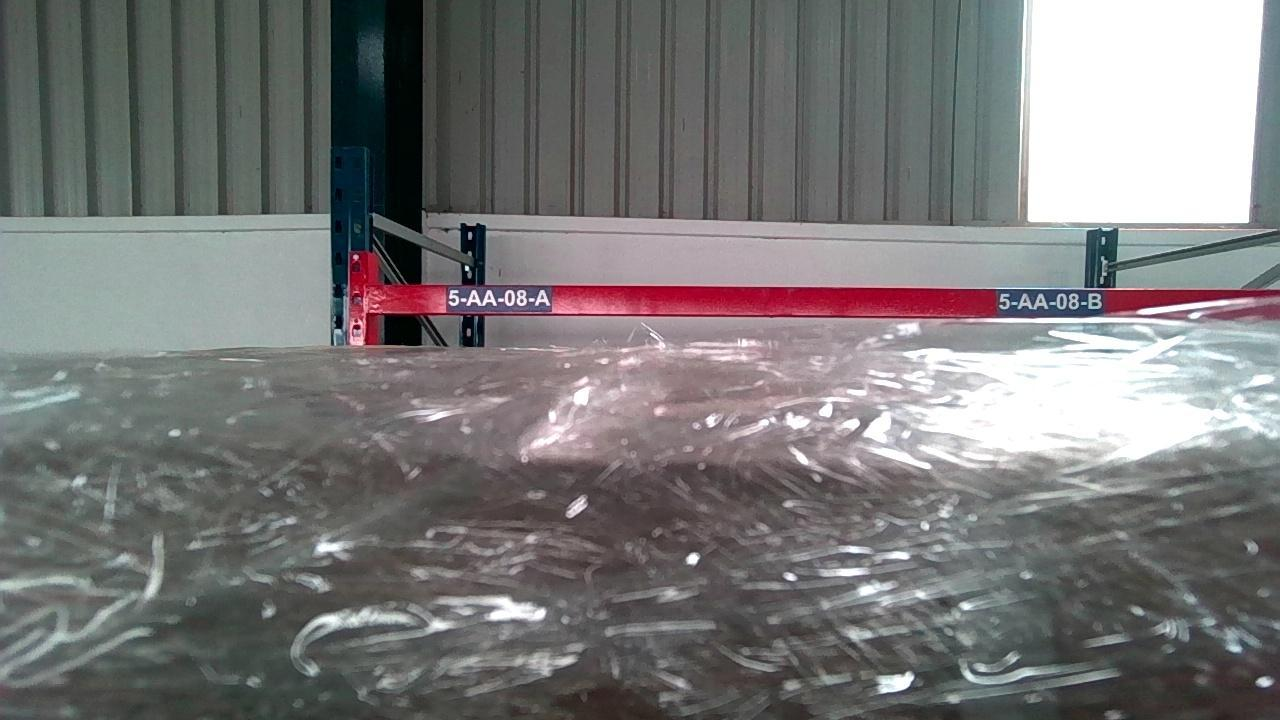h_rack: (363, 284, 1274, 323)
